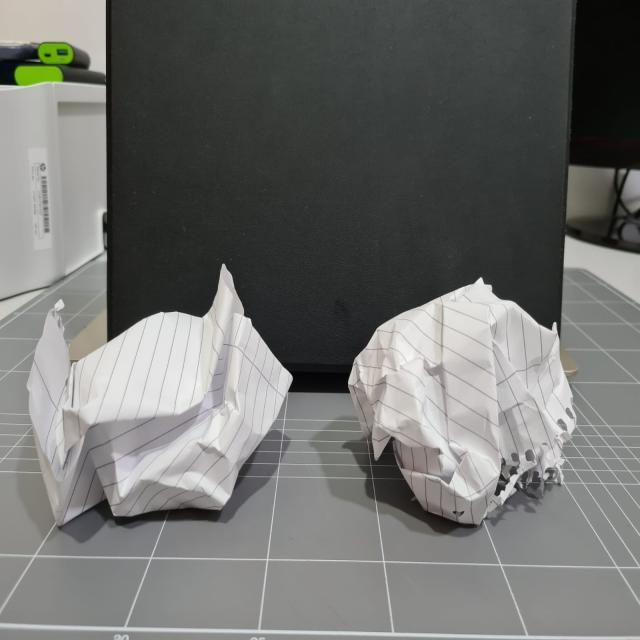Paper: (23, 262, 292, 521), (347, 280, 574, 521)
